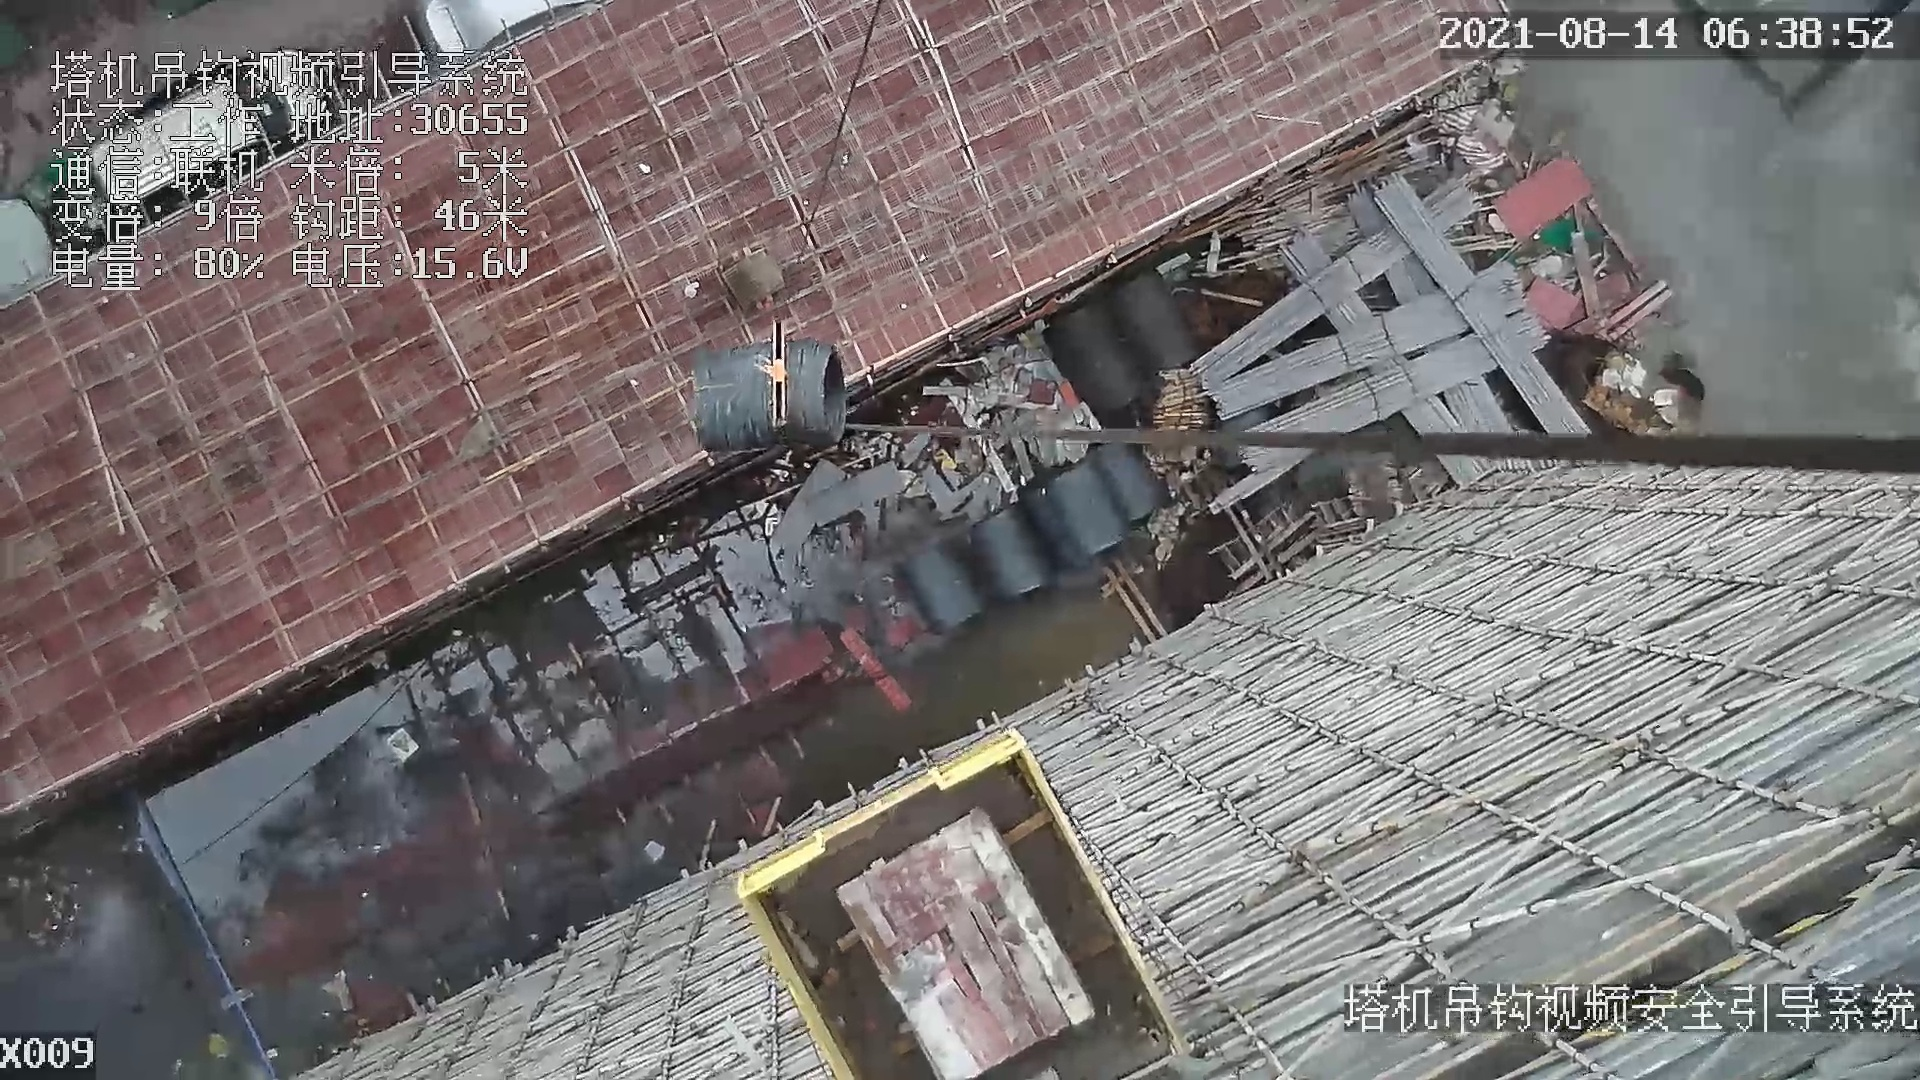hook: (753, 316, 796, 431)
